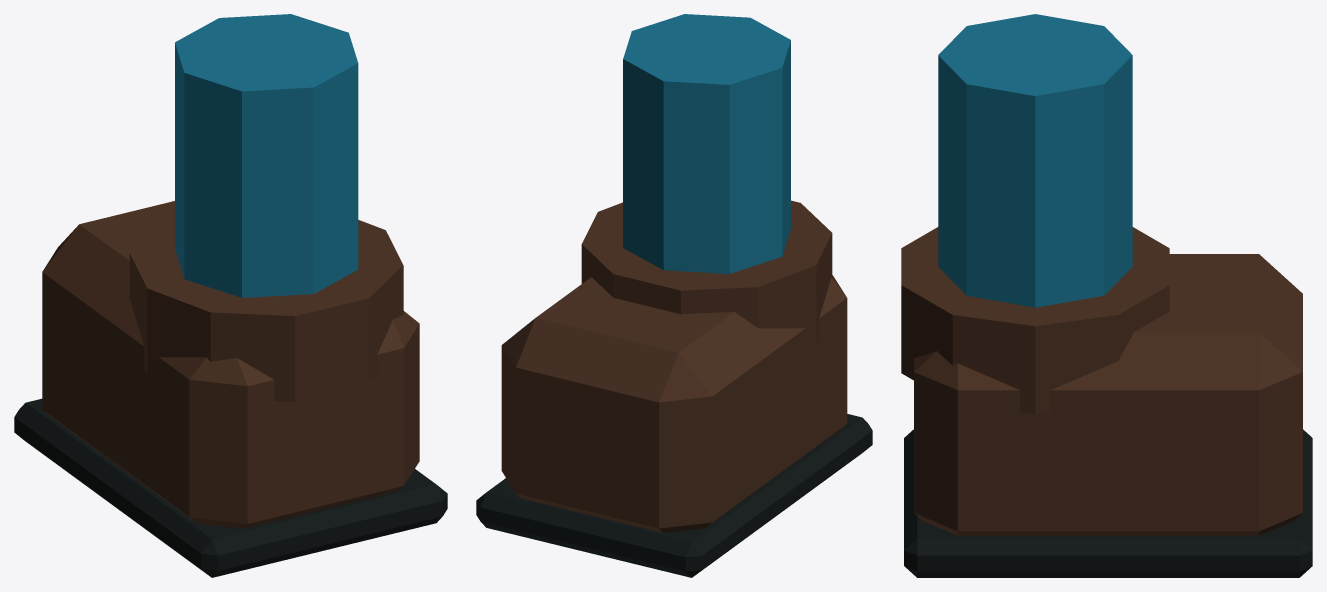
File: LegLeft.glb
3 renders of one model, left to right at view 1: azimuth 30°, elevation 25°; view 2: azimuth 150°, elevation 25°; view 3: azimuth 270°, elevation 25°, orthographic. The views are drawn at different scales.
Visible parts, largest first — view 1: geometry_0; view 2: geometry_0; view 3: geometry_0.
Boxes of the visible parts, x1,y1,x2,y2 form: geometry_0: (14, 14, 447, 577); geometry_0: (476, 14, 872, 577); geometry_0: (901, 14, 1312, 577).
Size of the model in its own units: 0.3 by 0.5295 by 0.4229.
